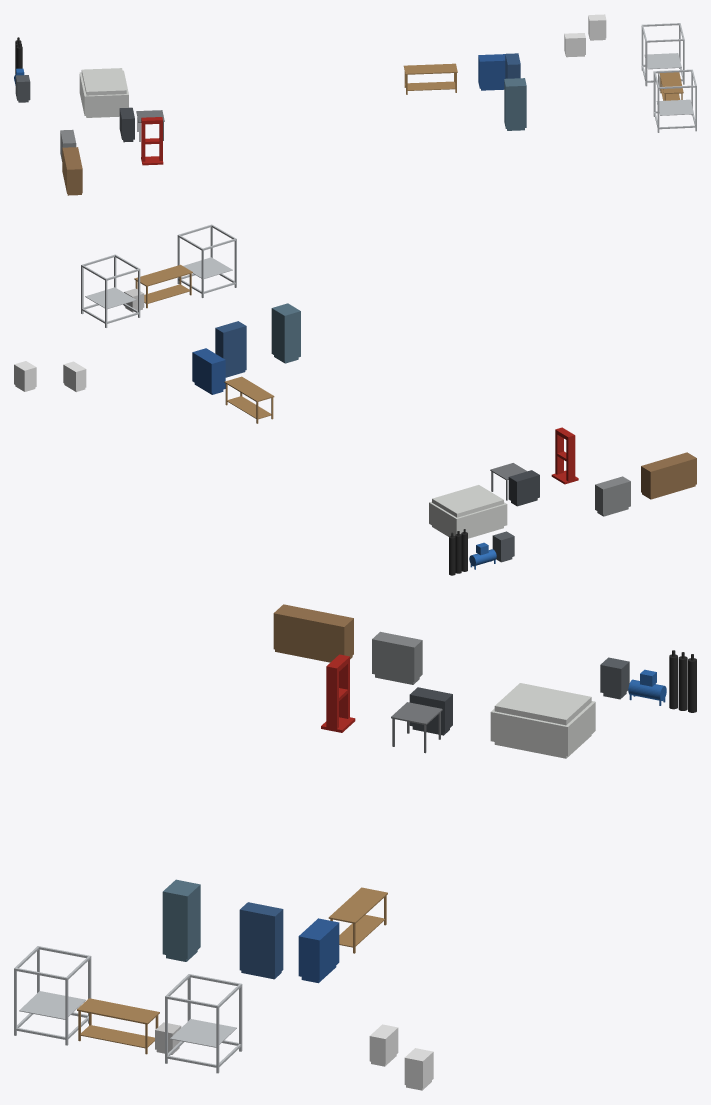
File: mobilier.glb
3 renders of one model, top to bottom at view 1: azimuth 30°, elevation 25°; view 2: azimuth 150°, elevation 25°; view 3: azimuth 270°, elevation 25°, orthographic. The views are drawn at different scales.
Visible parts, largest first — view 1: ESQ_mobilier_projet_14_laser, ESQ_mobilier_projet_26_imprimante_3d_gf, ESQ_mobilier_projet_30_imprimante_3d_gf, ESQ_mobilier_projet_23_fraiseuse, ESQ_mobilier_projet_25_etabli, ESQ_mobilier_projet_22_tour, ESQ_mobilier_projet_29_comptoir, ESQ_mobilier_projet_19_presse, ESQ_mobilier_projet_27_etabli, ESQ_mobilier_projet_1_wc, ESQ_mobilier_projet_21_poste_mig, ESQ_mobilier_projet_3_lave_mains (+4 smaller); view 2: ESQ_mobilier_projet_14_laser, ESQ_mobilier_projet_29_comptoir, ESQ_mobilier_projet_30_imprimante_3d_gf, ESQ_mobilier_projet_23_fraiseuse, ESQ_mobilier_projet_26_imprimante_3d_gf, ESQ_mobilier_projet_24_outillage, ESQ_mobilier_projet_22_tour, ESQ_mobilier_projet_25_etabli, ESQ_mobilier_projet_18_scie_ruban, ESQ_mobilier_projet_27_etabli, ESQ_mobilier_projet_19_presse, ESQ_mobilier_projet_21_poste_mig (+4 smaller); view 3: ESQ_mobilier_projet_14_laser, ESQ_mobilier_projet_29_comptoir, ESQ_mobilier_projet_24_outillage, ESQ_mobilier_projet_30_imprimante_3d_gf, ESQ_mobilier_projet_23_fraiseuse, ESQ_mobilier_projet_26_imprimante_3d_gf, ESQ_mobilier_projet_18_scie_ruban, ESQ_mobilier_projet_22_tour, ESQ_mobilier_projet_27_etabli, ESQ_mobilier_projet_25_etabli, ESQ_mobilier_projet_19_presse, ESQ_mobilier_projet_16_bouteilles_gaz (+6 smaller).
Boxes of the visible parts, bbox=[...] form: ESQ_mobilier_projet_14_laser: bbox=[79, 68, 128, 117]; ESQ_mobilier_projet_26_imprimante_3d_gf: bbox=[653, 69, 696, 132]; ESQ_mobilier_projet_30_imprimante_3d_gf: bbox=[641, 23, 684, 86]; ESQ_mobilier_projet_23_fraiseuse: bbox=[504, 78, 526, 130]; ESQ_mobilier_projet_25_etabli: bbox=[403, 63, 457, 94]; ESQ_mobilier_projet_22_tour: bbox=[478, 54, 505, 90]; ESQ_mobilier_projet_29_comptoir: bbox=[62, 147, 82, 195]; ESQ_mobilier_projet_19_presse: bbox=[141, 117, 163, 165]; ESQ_mobilier_projet_27_etabli: bbox=[659, 72, 683, 100]; ESQ_mobilier_projet_1_wc: bbox=[564, 33, 585, 57]; ESQ_mobilier_projet_21_poste_mig: bbox=[119, 107, 134, 142]; ESQ_mobilier_projet_3_lave_mains: bbox=[588, 14, 606, 40]; ESQ_mobilier_projet_14_laser: bbox=[429, 485, 507, 538]; ESQ_mobilier_projet_29_comptoir: bbox=[641, 452, 696, 499]; ESQ_mobilier_projet_30_imprimante_3d_gf: bbox=[81, 254, 140, 327]; ESQ_mobilier_projet_23_fraiseuse: bbox=[271, 303, 300, 363]; ESQ_mobilier_projet_26_imprimante_3d_gf: bbox=[177, 224, 236, 297]; ESQ_mobilier_projet_24_outillage: bbox=[215, 321, 246, 377]; ESQ_mobilier_projet_22_tour: bbox=[192, 348, 225, 394]; ESQ_mobilier_projet_25_etabli: bbox=[224, 376, 274, 423]; ESQ_mobilier_projet_18_scie_ruban: bbox=[595, 476, 630, 516]; ESQ_mobilier_projet_27_etabli: bbox=[134, 264, 192, 308]; ESQ_mobilier_projet_19_presse: bbox=[551, 427, 578, 484]; ESQ_mobilier_projet_21_poste_mig: bbox=[508, 470, 539, 506]; ESQ_mobilier_projet_14_laser: bbox=[490, 683, 595, 758]; ESQ_mobilier_projet_29_comptoir: bbox=[273, 604, 353, 662]; ESQ_mobilier_projet_24_outillage: bbox=[239, 902, 283, 979]; ESQ_mobilier_projet_30_imprimante_3d_gf: bbox=[165, 974, 242, 1073]; ESQ_mobilier_projet_23_fraiseuse: bbox=[162, 879, 200, 961]; ESQ_mobilier_projet_26_imprimante_3d_gf: bbox=[14, 946, 91, 1045]; ESQ_mobilier_projet_18_scie_ruban: bbox=[372, 631, 422, 684]; ESQ_mobilier_projet_22_tour: bbox=[298, 918, 339, 983]; ESQ_mobilier_projet_27_etabli: bbox=[77, 998, 159, 1054]; ESQ_mobilier_projet_25_etabli: bbox=[328, 887, 387, 953]; ESQ_mobilier_projet_19_presse: bbox=[321, 654, 355, 732]; ESQ_mobilier_projet_16_bouteilles_gaz: bbox=[669, 650, 696, 712].
Bounding box in the file's own units: 26.08 × 2.54 × 17.52.
